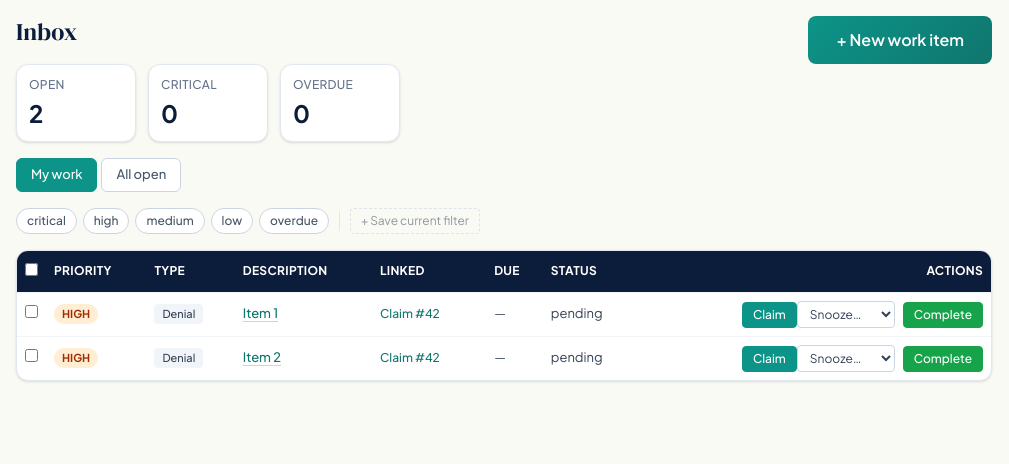
Test: InboxPage › bulk actions › toolbar appears only after at least one row is selected
Click the checkbox named "Select item 1" at (32, 312), box [25,305,38,318]
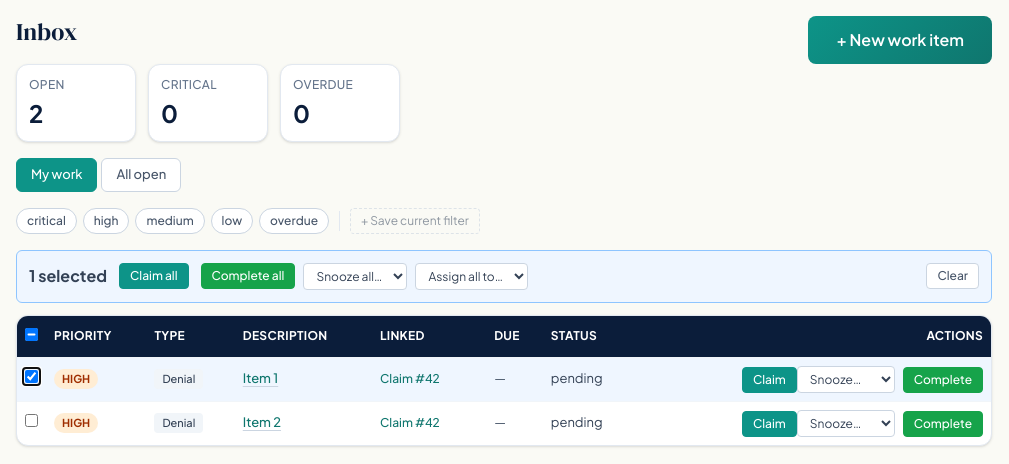
Expected: the text "1 selected" is shown, [29,264,107,288]
